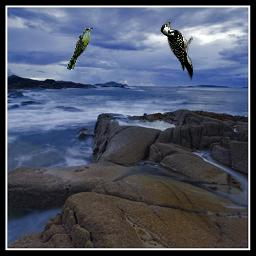Cuckoo: (67, 28, 93, 70)
Woodpecker: (160, 19, 193, 81)
